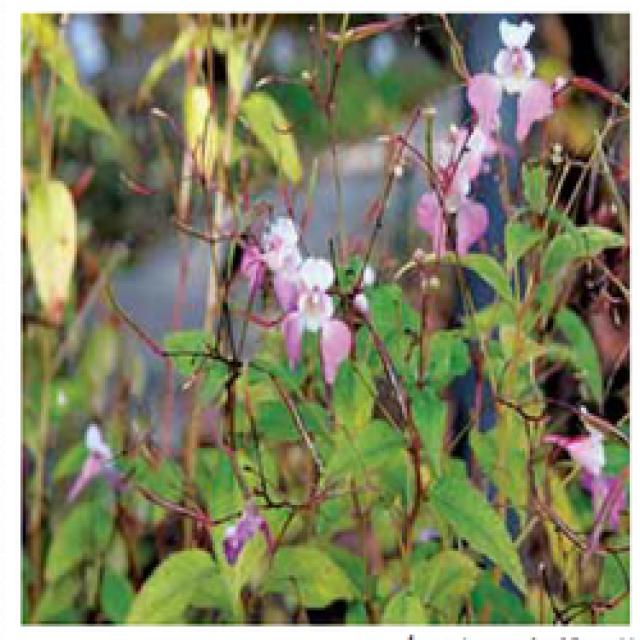Meetha: (49, 115, 640, 640), (136, 89, 640, 640), (237, 12, 617, 425)
